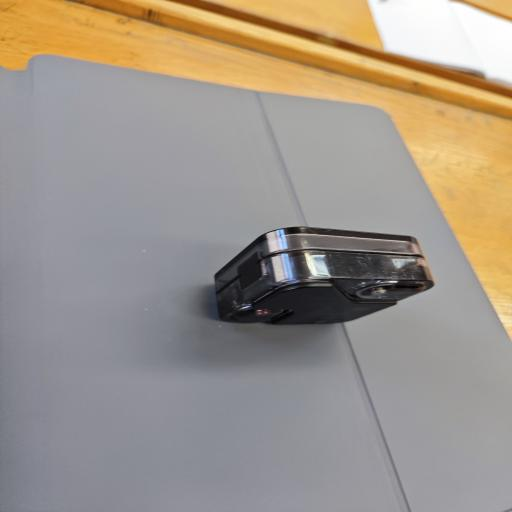Headphones: (192, 220, 448, 332)
